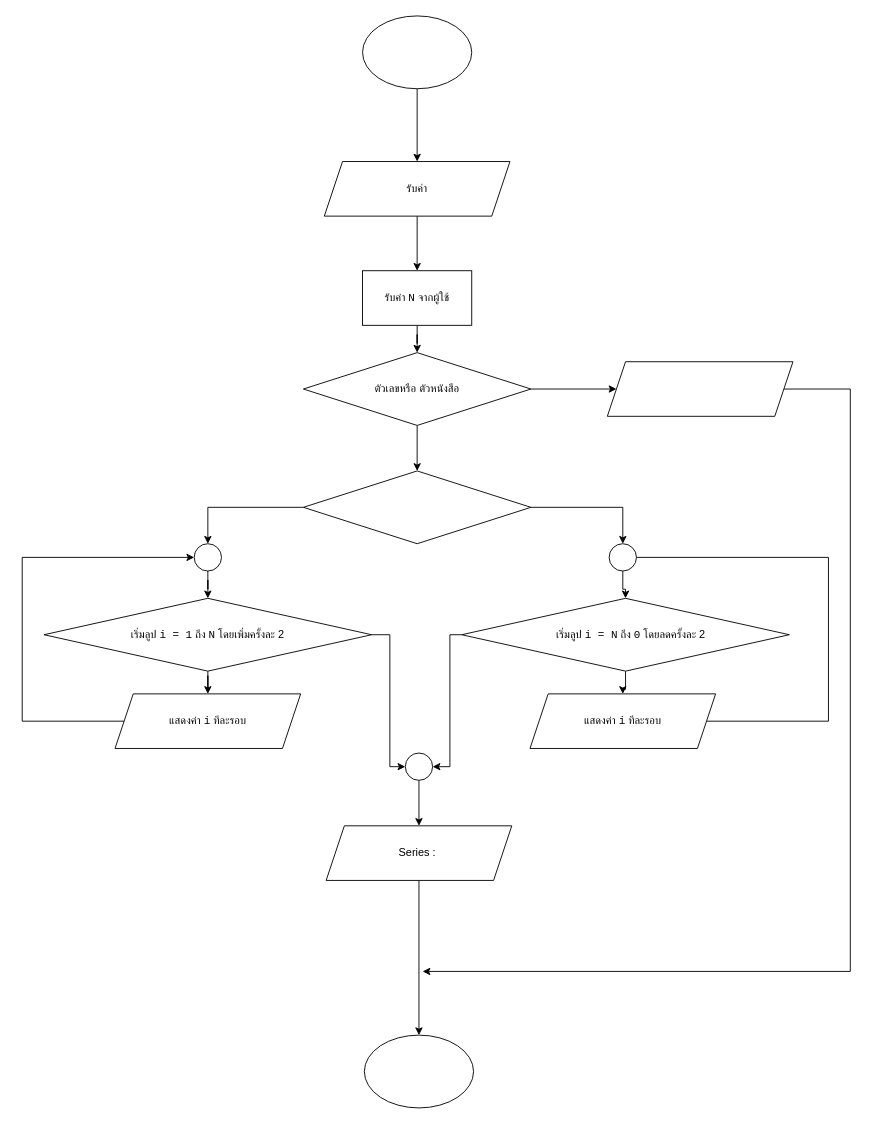
The diagram is 874 pixels wide and 1124 high, and some of its shapes have lost their labels. The shapes that lost their labels are listed below. From the top down, each one's box as (x1, y1, x2, y2) in pixels, then its label:
(362, 15, 472, 89): Start
(606, 361, 793, 416): NO!!!
(302, 470, 531, 544): ตรวจสอบว่า N เป็นเลขคี่หรือเลขคู่
(363, 1034, 474, 1108): End
